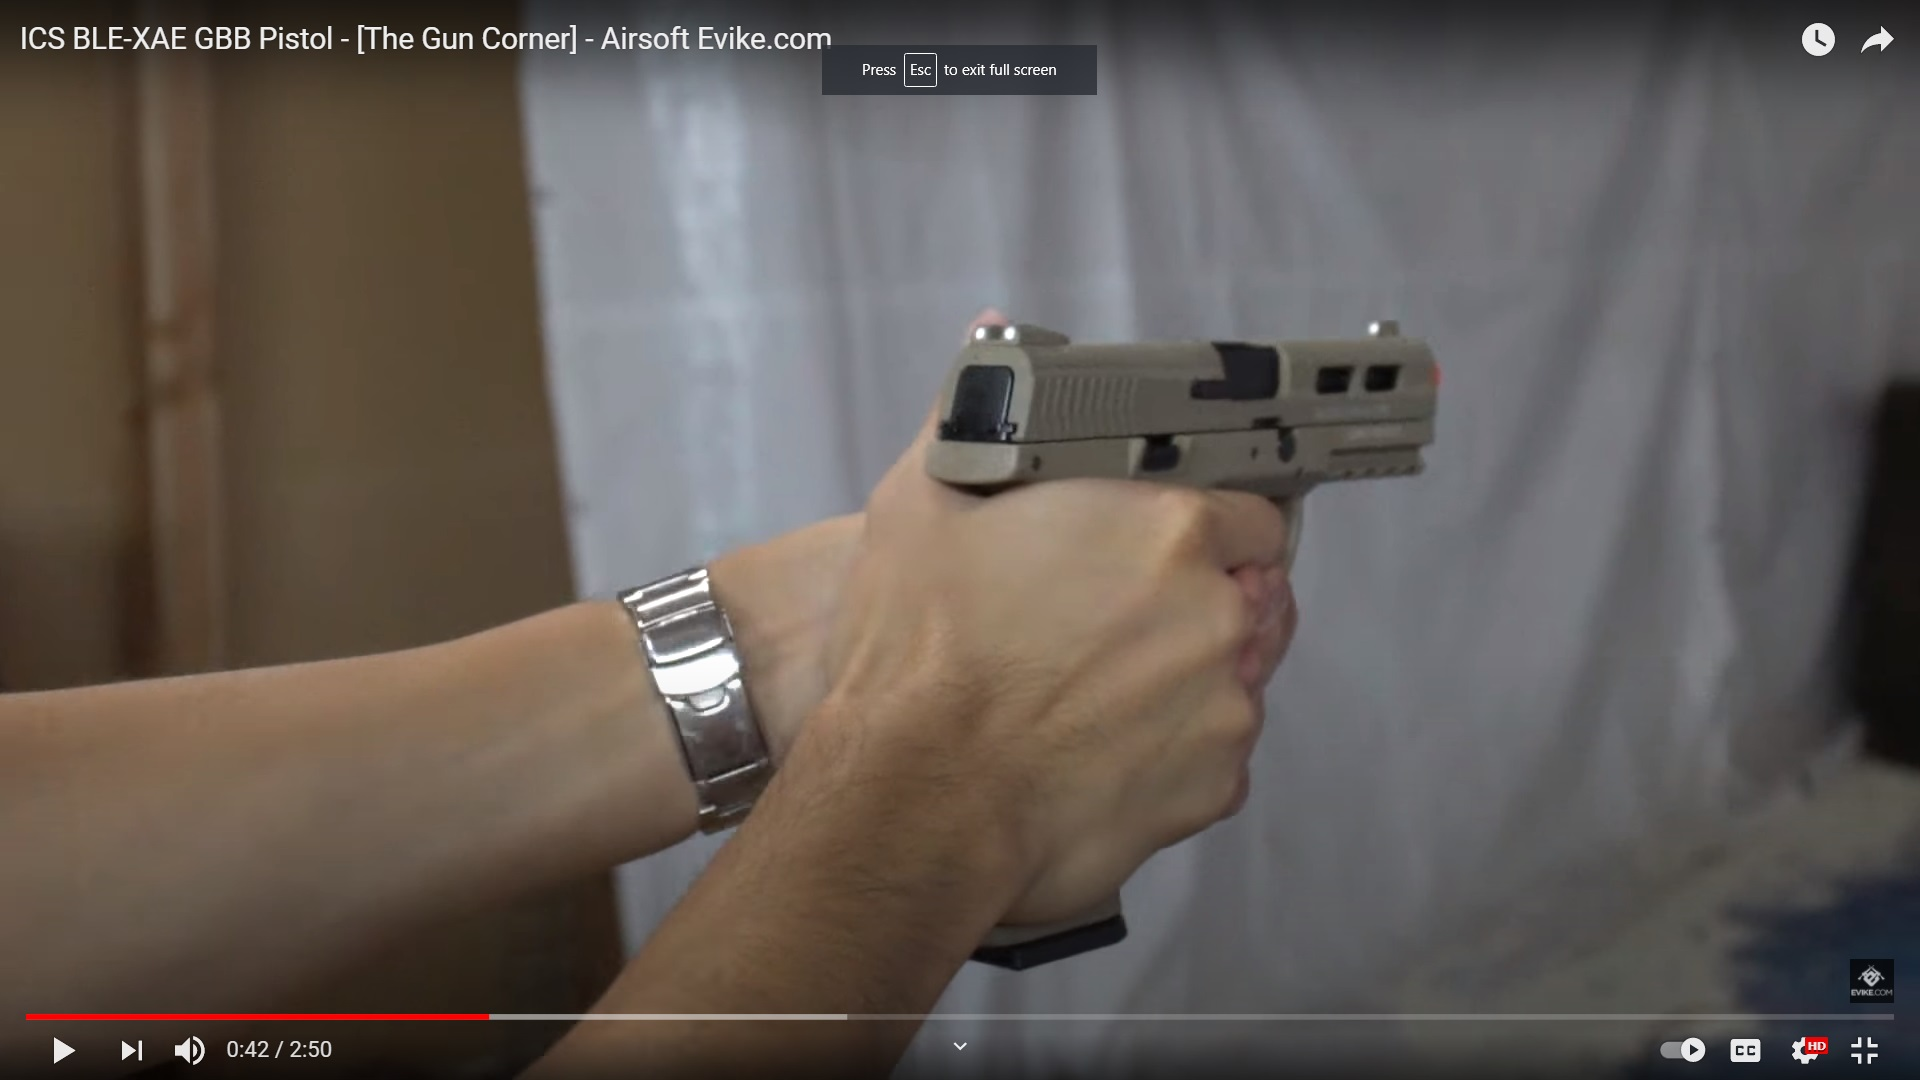asg_ics_ble_xae: (942, 307, 1449, 945)
